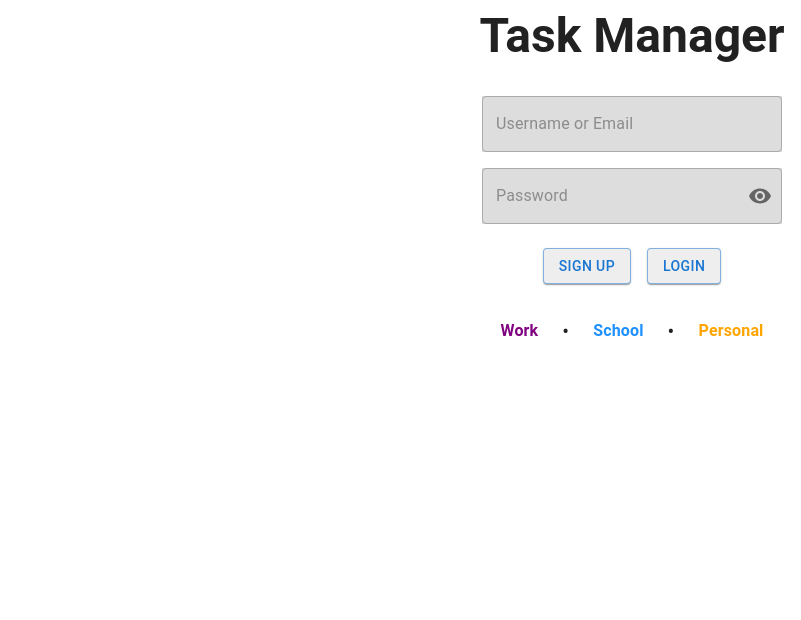
Test: LoginPage Tests › shows error when no token received
The width and height of the screenshot is (801, 620).
Type "test@example.com" into the field with placeholder "Username or Email" at point(632, 124), box x1=482 y1=96 x2=782 y2=152
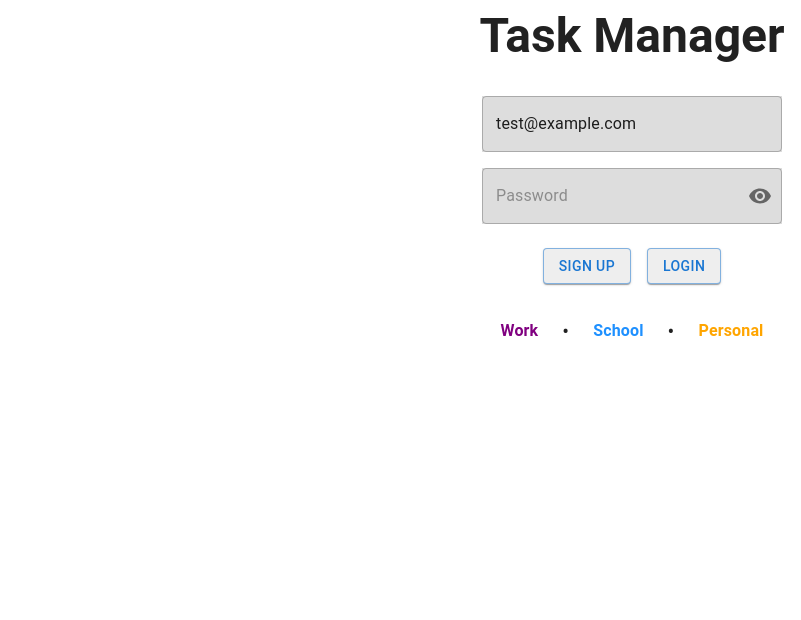
Type "password123" into the password field with placeholder "Password" at point(607, 196), box x1=482 y1=168 x2=732 y2=224
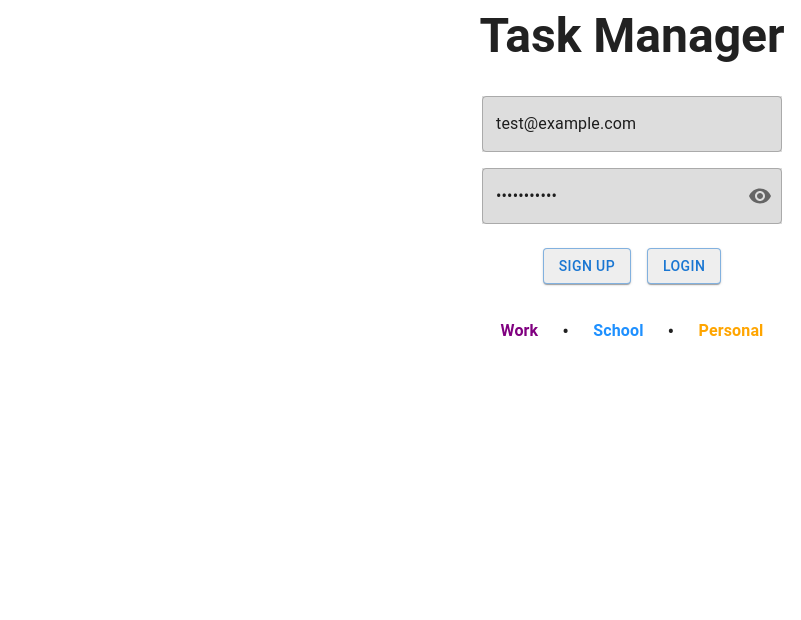
Click the button "Login" at point(684, 266), box x1=647 y1=248 x2=721 y2=284
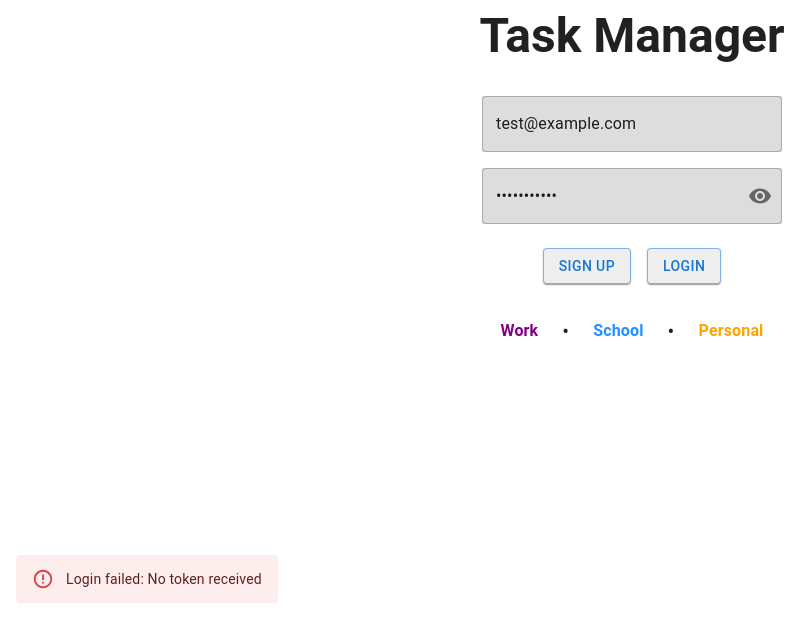
Result: the text "Login failed: No token received" is shown at x1=66 y1=571 x2=262 y2=587
